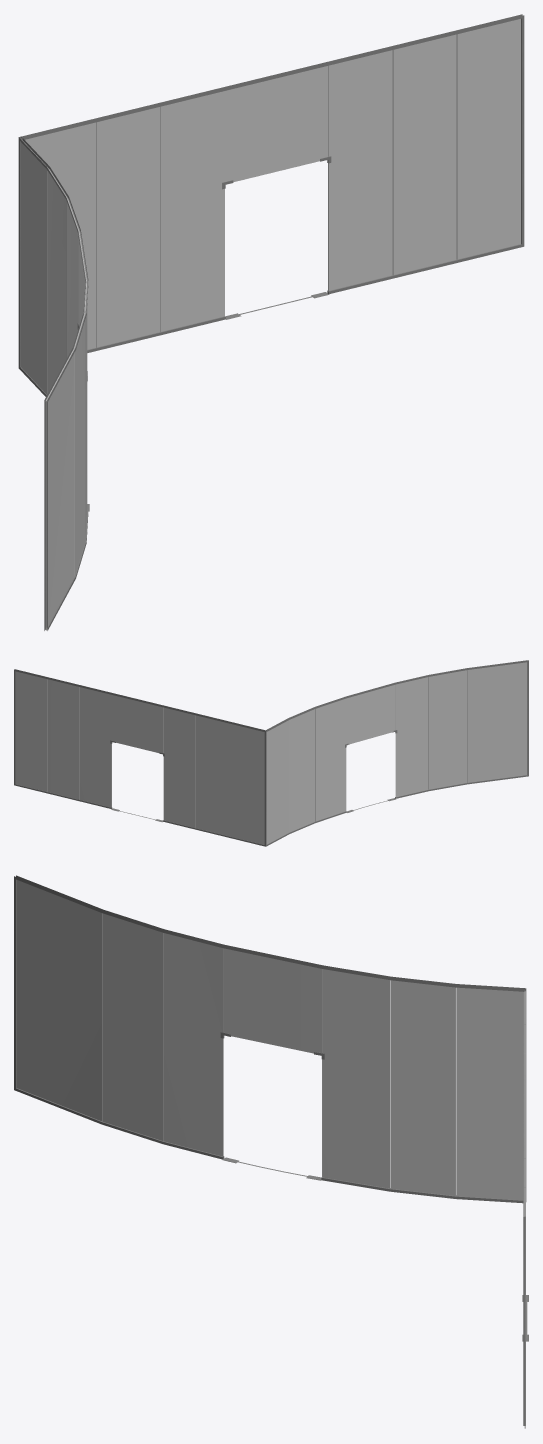
File: SM_StoreFront_Atrium_02.fbx
3 views of the same model, one above another, from view 1: azimuth 30°, elevation 25°; view 2: azimuth 150°, elevation 25°; view 3: azimuth 270°, elevation 25° (orthographic). The views are drawn at different scales.
Visible parts, largest first — view 1: SM_StoreFront_Atrium_02_LOD0; view 2: SM_StoreFront_Atrium_02_LOD0; view 3: SM_StoreFront_Atrium_02_LOD0.
Boxes of the visible parts, x1=… form: SM_StoreFront_Atrium_02_LOD0: x1=18, y1=14, x2=524, y2=630; SM_StoreFront_Atrium_02_LOD0: x1=14, y1=660, x2=528, y2=846; SM_StoreFront_Atrium_02_LOD0: x1=14, y1=875, x2=528, y2=1428.
Size of the model in its own units: 1467 by 938 by 430.
